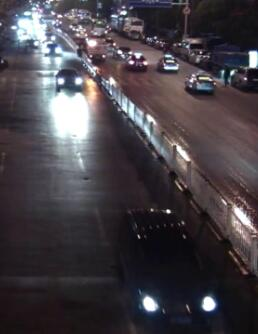car: (112, 202, 220, 331), (53, 65, 86, 94), (183, 71, 219, 94), (227, 64, 255, 89), (125, 49, 151, 72), (156, 52, 181, 74), (122, 14, 144, 38), (39, 38, 63, 58), (181, 38, 205, 57), (190, 47, 211, 66)
